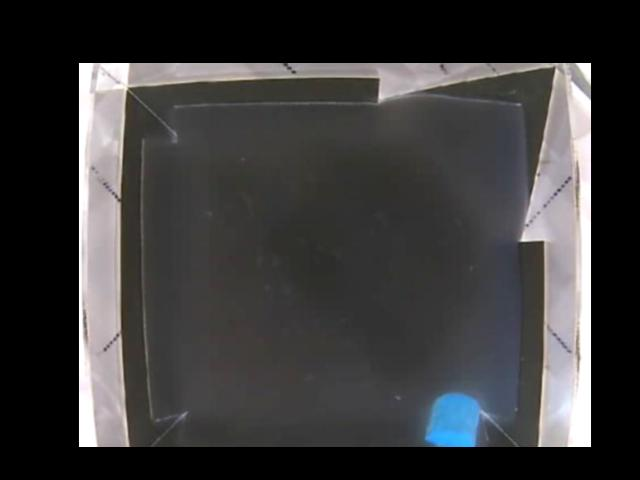Carrot: (423, 391, 479, 446)
